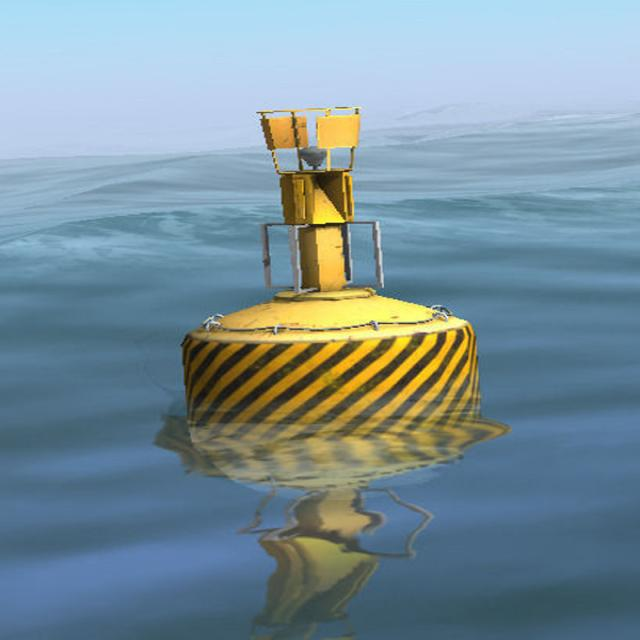buoy: (170, 95, 485, 424)
